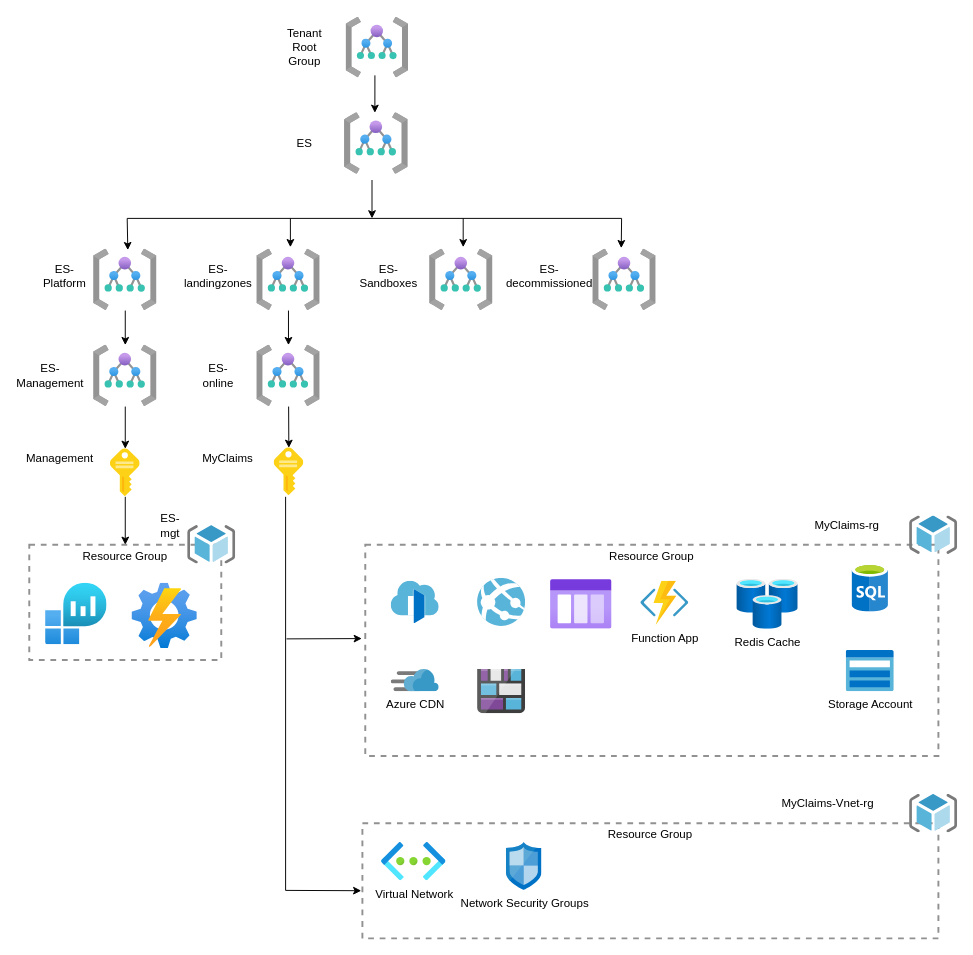
Image size: 973x955. Some labels were removed from this diagram. Here are the shapes that lost their labels. From the top down, the centre of each, then its label:
the point at 415,602: Azure Front Door
the point at 501,602: Web App
the point at 581,604: Storage Queue
the point at 870,588: SQL Database
the point at 501,691: Blob Storage
